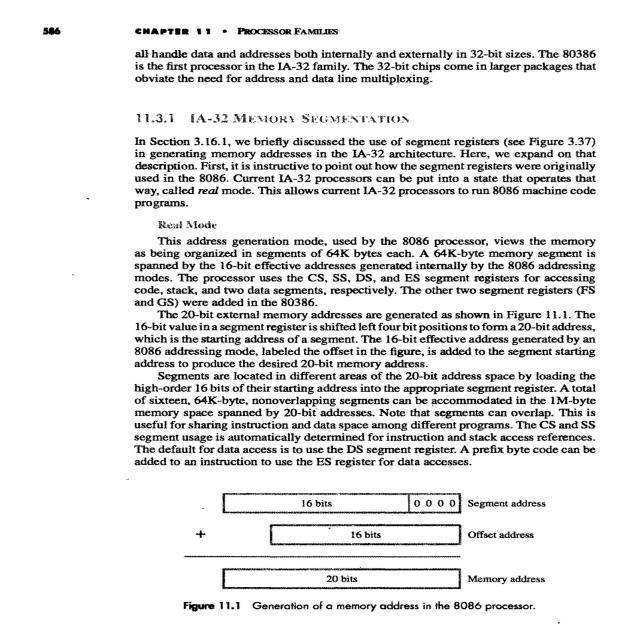diagram: (74, 483, 622, 639)
